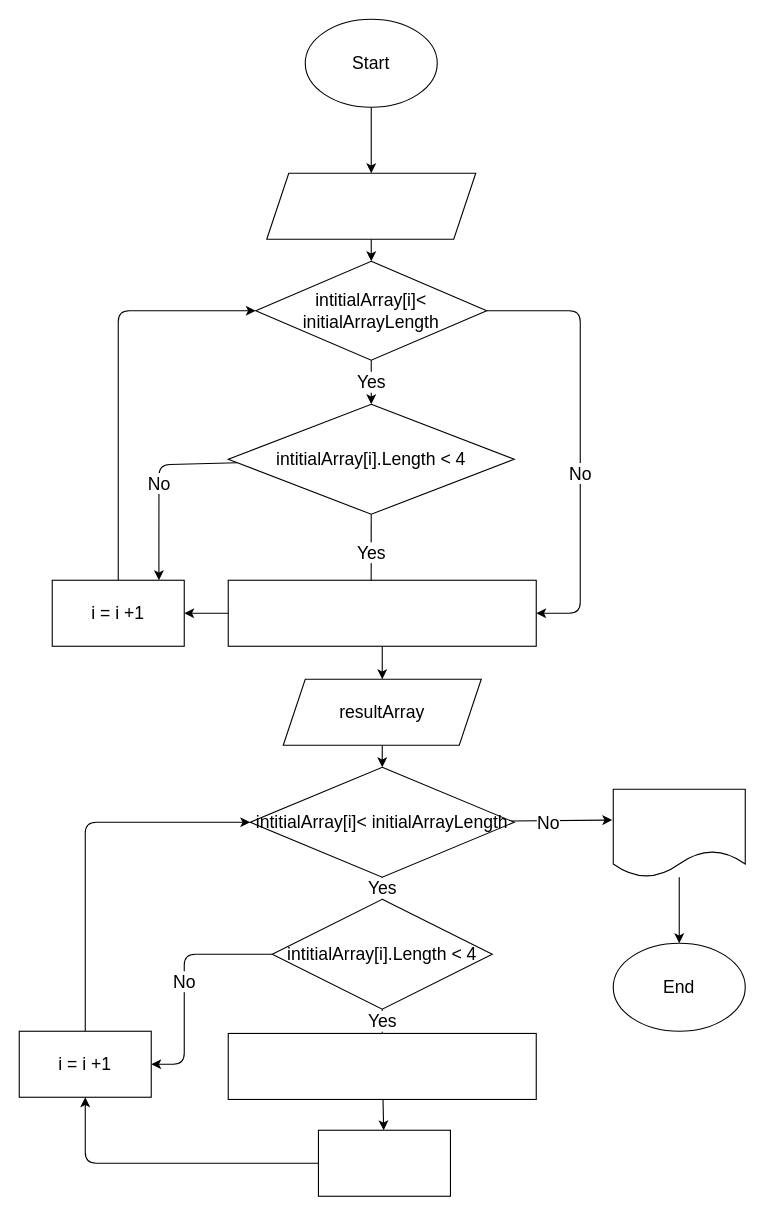
Some shapes in this 765 by 1216 pixel diagram are drawn without their labels. The centre of each missing label's shape, as x and y in pixels:
InitialArray resultArrayLength = 0: point 371,205
j = j +1: point 383,1162
Print resultArray: point 678,832
resultArray[j] = initialArray[i]: point 381,1065
resultArrayLength = resultArrayLength +1: point 381,612
